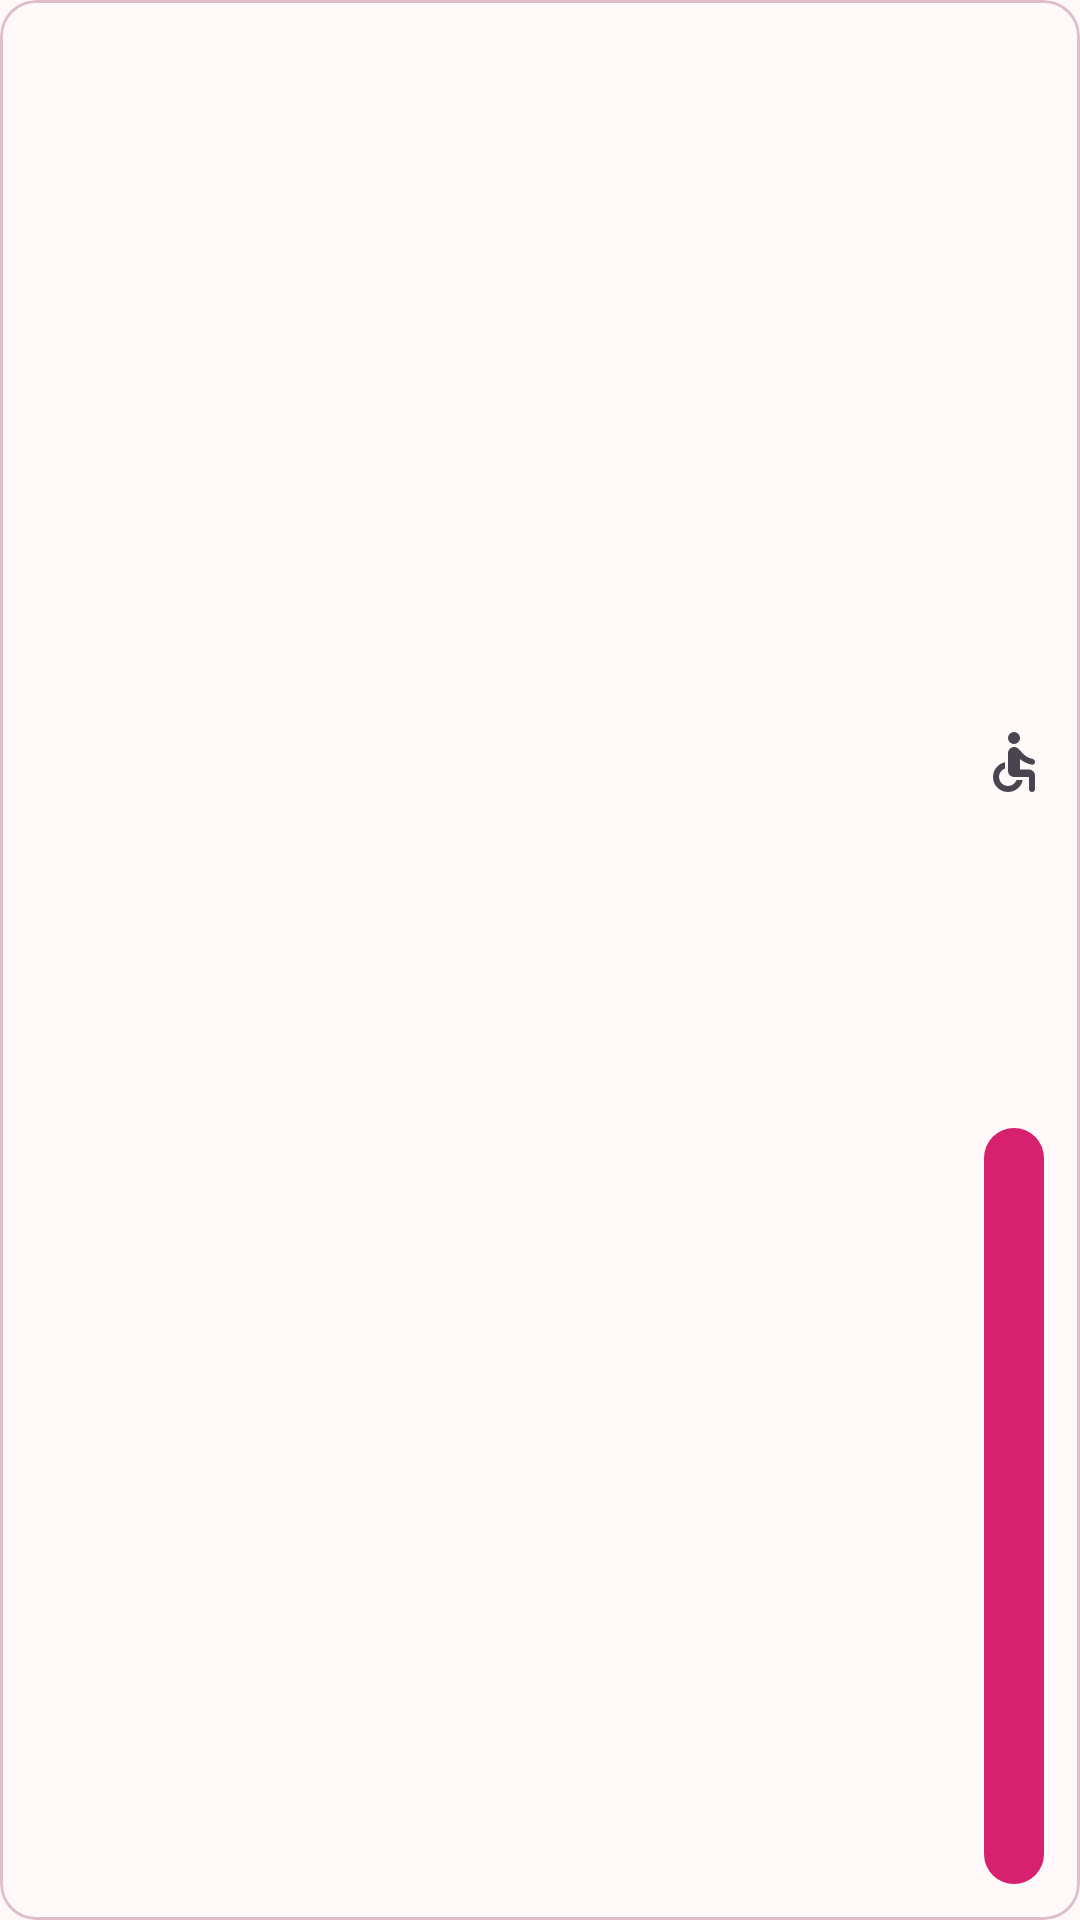

Named icons in this screenshot (1080x1920) and their bounding boxes, region(x1, y1, x2, y2):
Is adapted: region(993, 732, 1035, 792)
